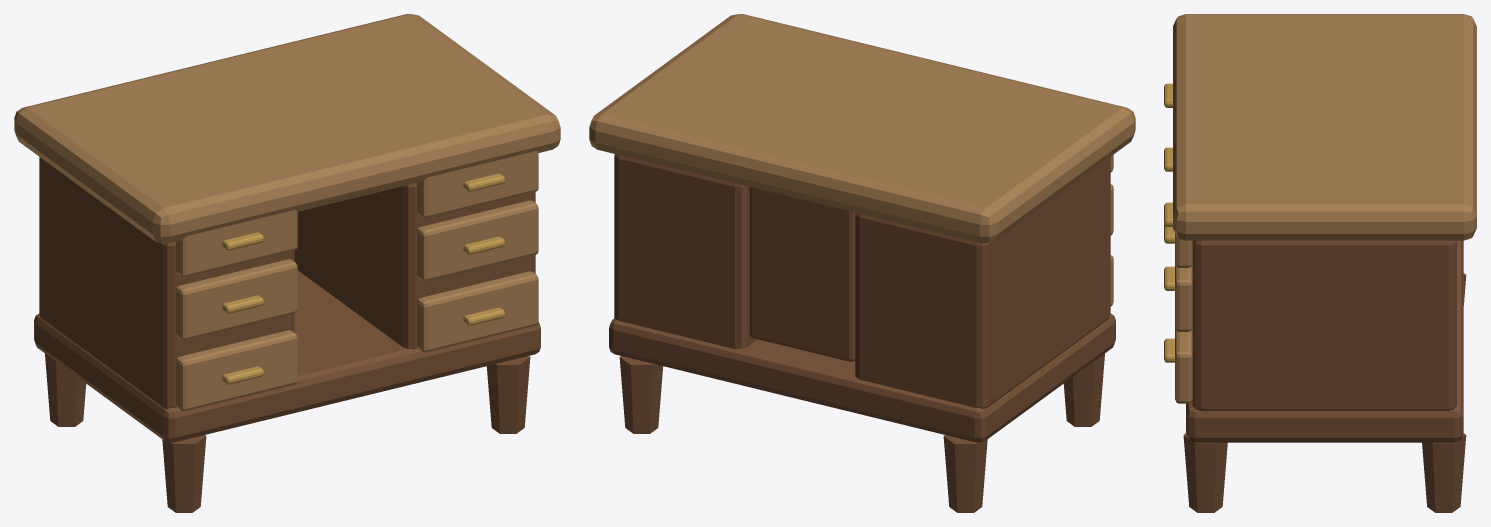
The model's file is SM_CH_Story_Desk.fbx.
3 renders of one model, left to right at view 1: azimuth 30°, elevation 25°; view 2: azimuth 150°, elevation 25°; view 3: azimuth 270°, elevation 25°, orthographic.
Parts seen in each view (by area): view 1: SM_CH_Story_Desk; view 2: SM_CH_Story_Desk; view 3: SM_CH_Story_Desk.
Boxes of the visible parts, left/top/right/bottom form: SM_CH_Story_Desk: left=14, top=14, right=560, bottom=512; SM_CH_Story_Desk: left=589, top=14, right=1135, bottom=512; SM_CH_Story_Desk: left=1164, top=14, right=1476, bottom=512.
Size of the model in its own units: 10800 by 7100 by 7950.
